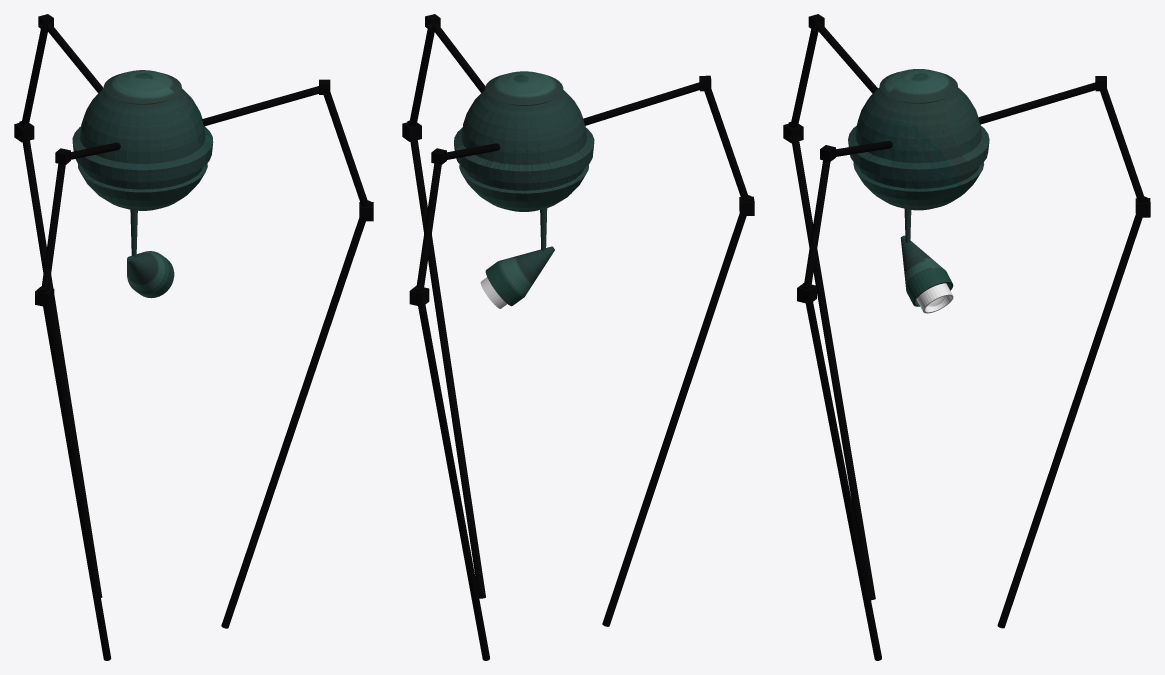
Rendered from looker.fbx.
3 renders of one model, left to right at view 1: azimuth 30°, elevation 25°; view 2: azimuth 150°, elevation 25°; view 3: azimuth 270°, elevation 25°, orthographic.
Parts seen in each view (by area): view 1: Cylinder.041, Sphere.005, Cylinder.039; view 2: Cylinder.041, Sphere.005, Cylinder.039; view 3: Cylinder.041, Sphere.005, Cylinder.039, Cylinder.038.
Boxes of the visible parts, left/top/right/bottom form: Cylinder.041: left=14, top=14, right=373, bottom=660; Sphere.005: left=72, top=70, right=213, bottom=210; Cylinder.039: left=127, top=251, right=174, bottom=298; Cylinder.041: left=402, top=14, right=754, bottom=660; Sphere.005: left=454, top=71, right=594, bottom=211; Cylinder.039: left=485, top=246, right=554, bottom=306; Cylinder.041: left=783, top=14, right=1150, bottom=660; Sphere.005: left=848, top=69, right=989, bottom=210; Cylinder.039: left=900, top=235, right=953, bottom=306; Cylinder.038: left=916, top=283, right=953, bottom=313.
Bounding box in the file's own units: 566 × 863 × 519.
Materials: 5 (2 with a texture image).
